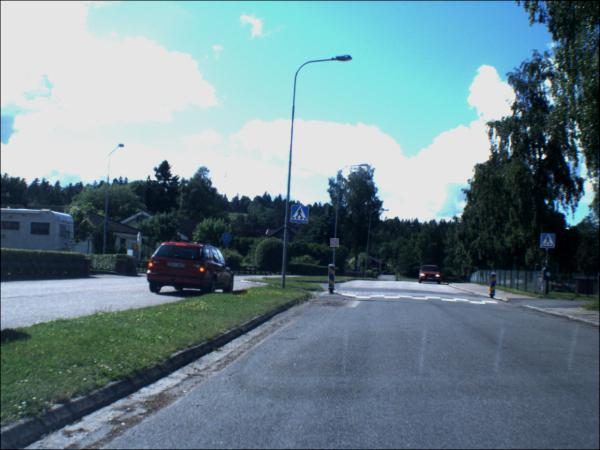NO_PARKING: (330, 240, 340, 250)
PEDESTRIAN_CROSSING: (290, 207, 311, 225), (540, 235, 556, 250)
